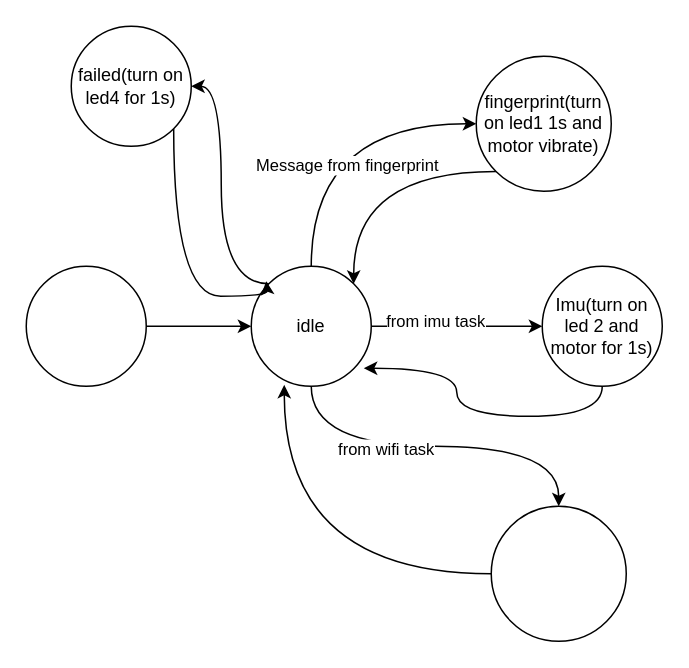
The diagram is 689 pixels wide and 668 high, and some of its shapes have lost their labels. The centre of each missing label's shape, as x and y in pixels:
"start" goes at (x=85, y=325).
"WIFI module(turn on led3 for 1s)" goes at (x=558, y=573).
